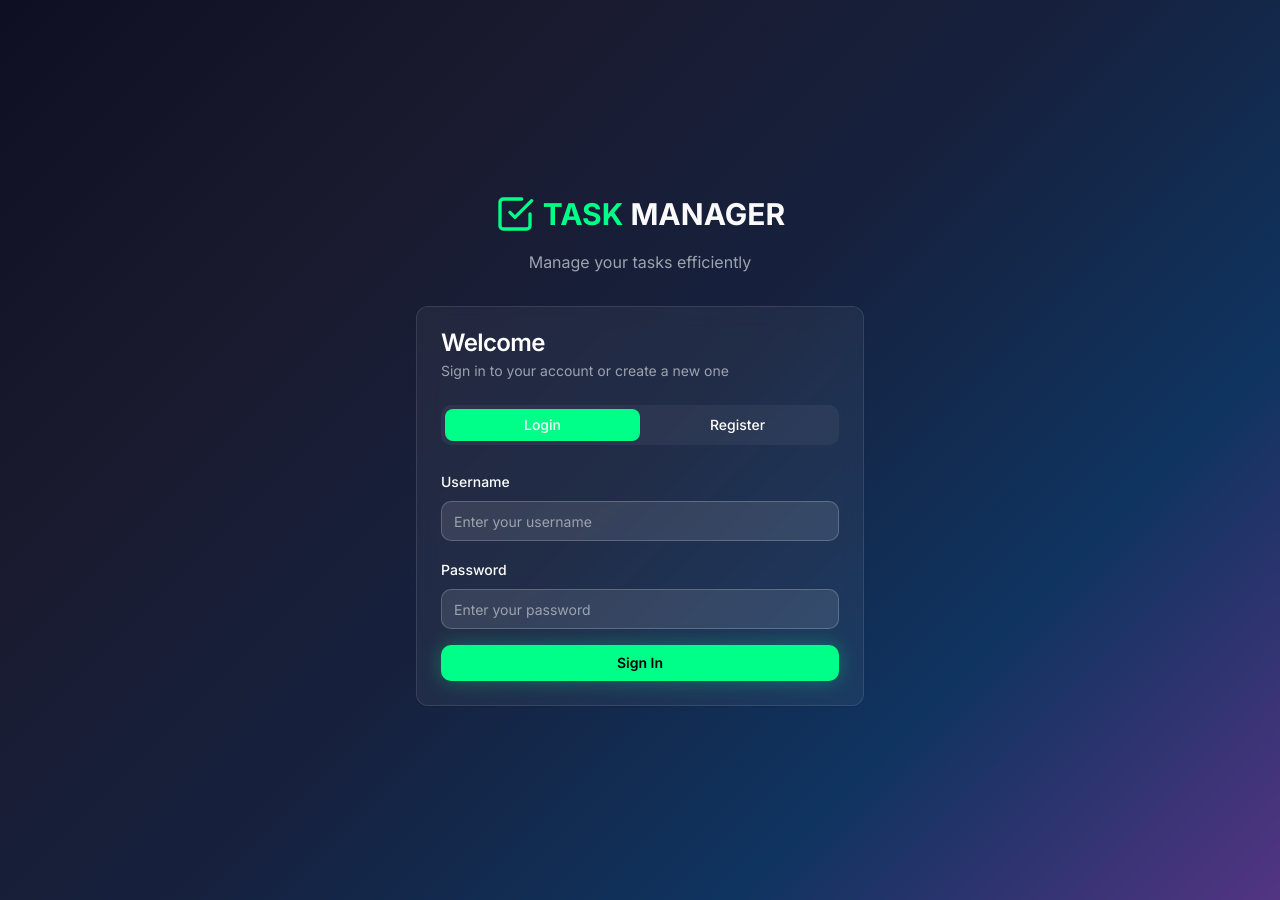
Test: LoginForm › handles login error
The width and height of the screenshot is (1280, 900).
Type "wronguser" into the field labelled "Username" at (640, 521), box x1=441 y1=501 x2=839 y2=541
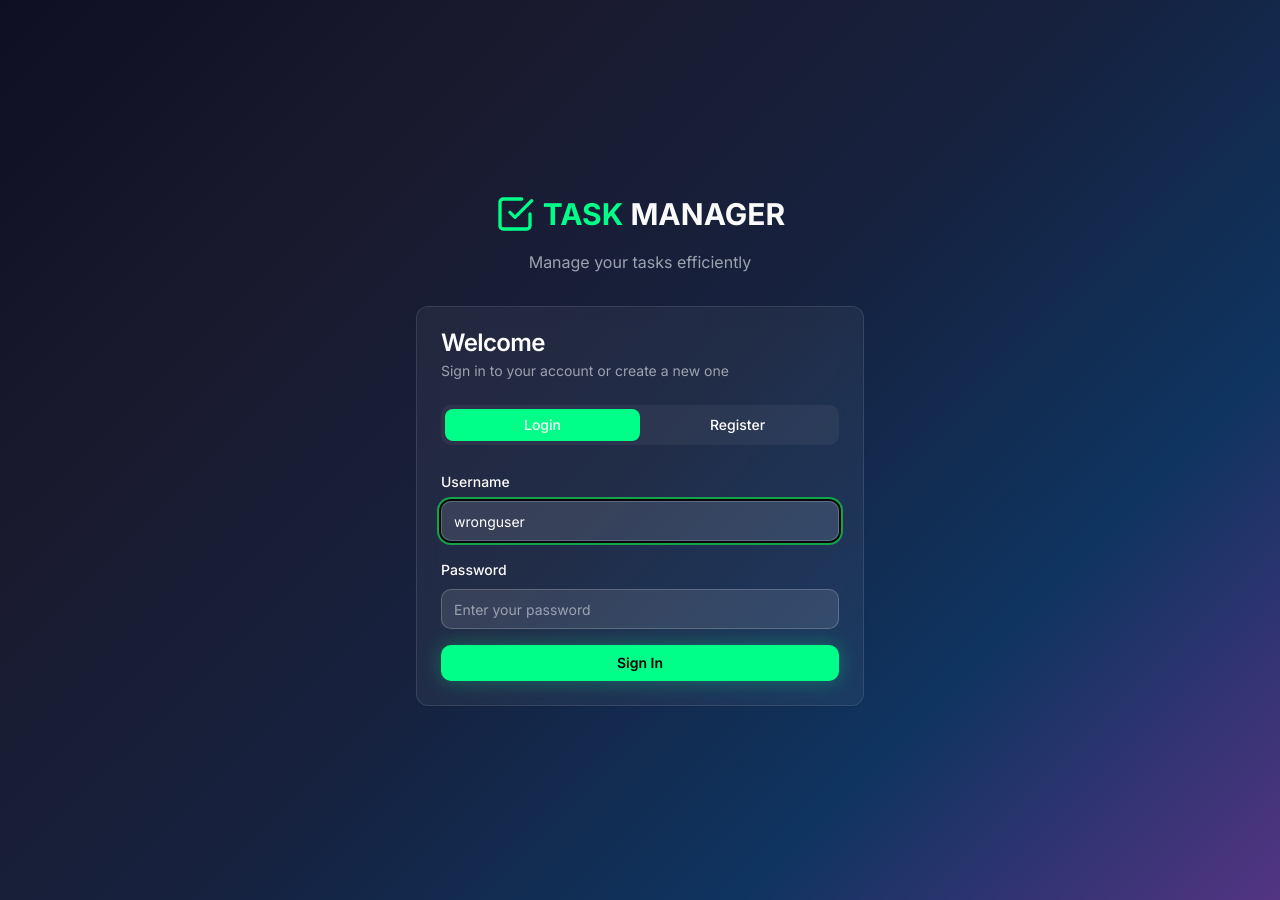
Type "wrongpass" into the password field labelled "Password" at (640, 609), box x1=441 y1=589 x2=839 y2=629
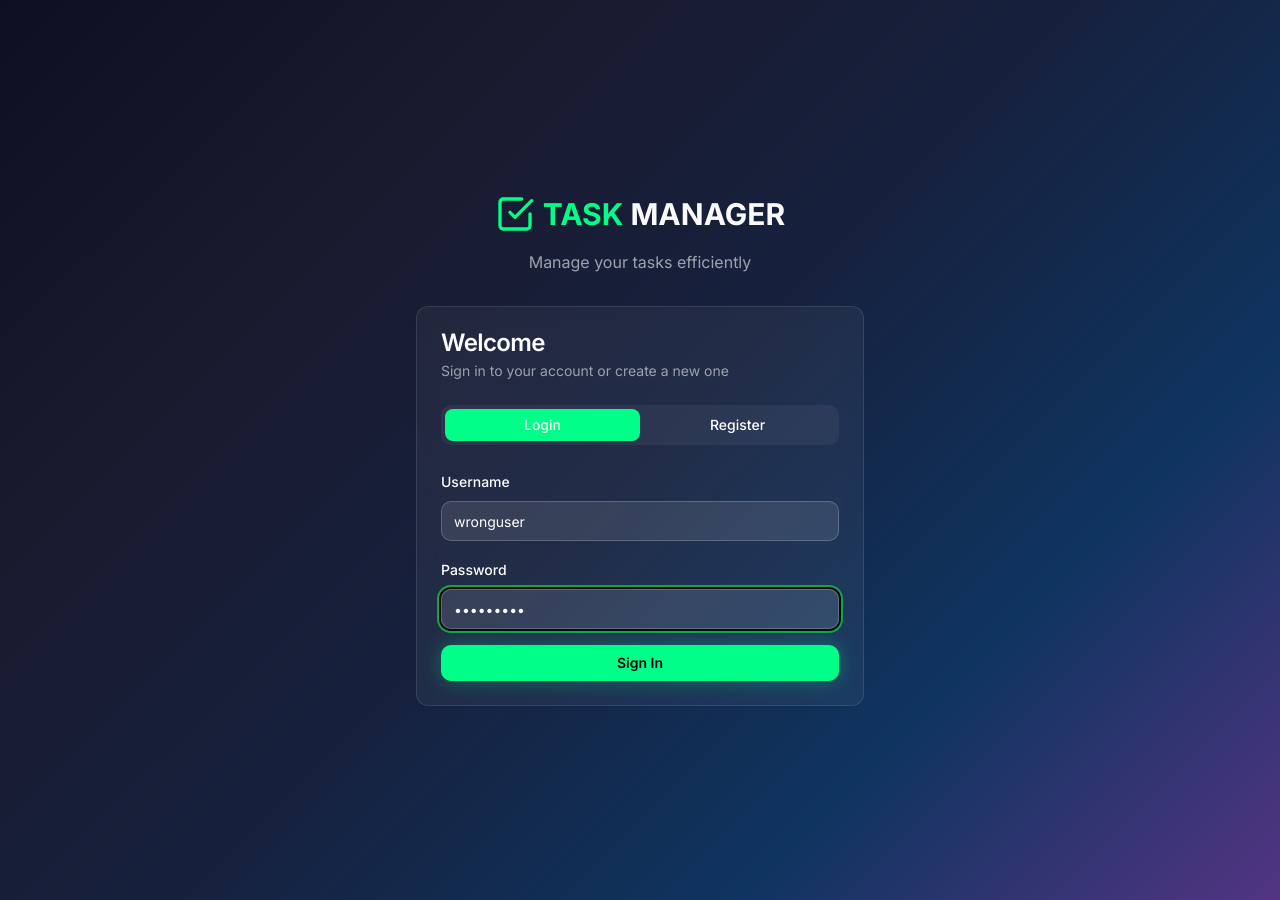
Click the button "Sign In" at (640, 663), box x1=441 y1=645 x2=839 y2=681
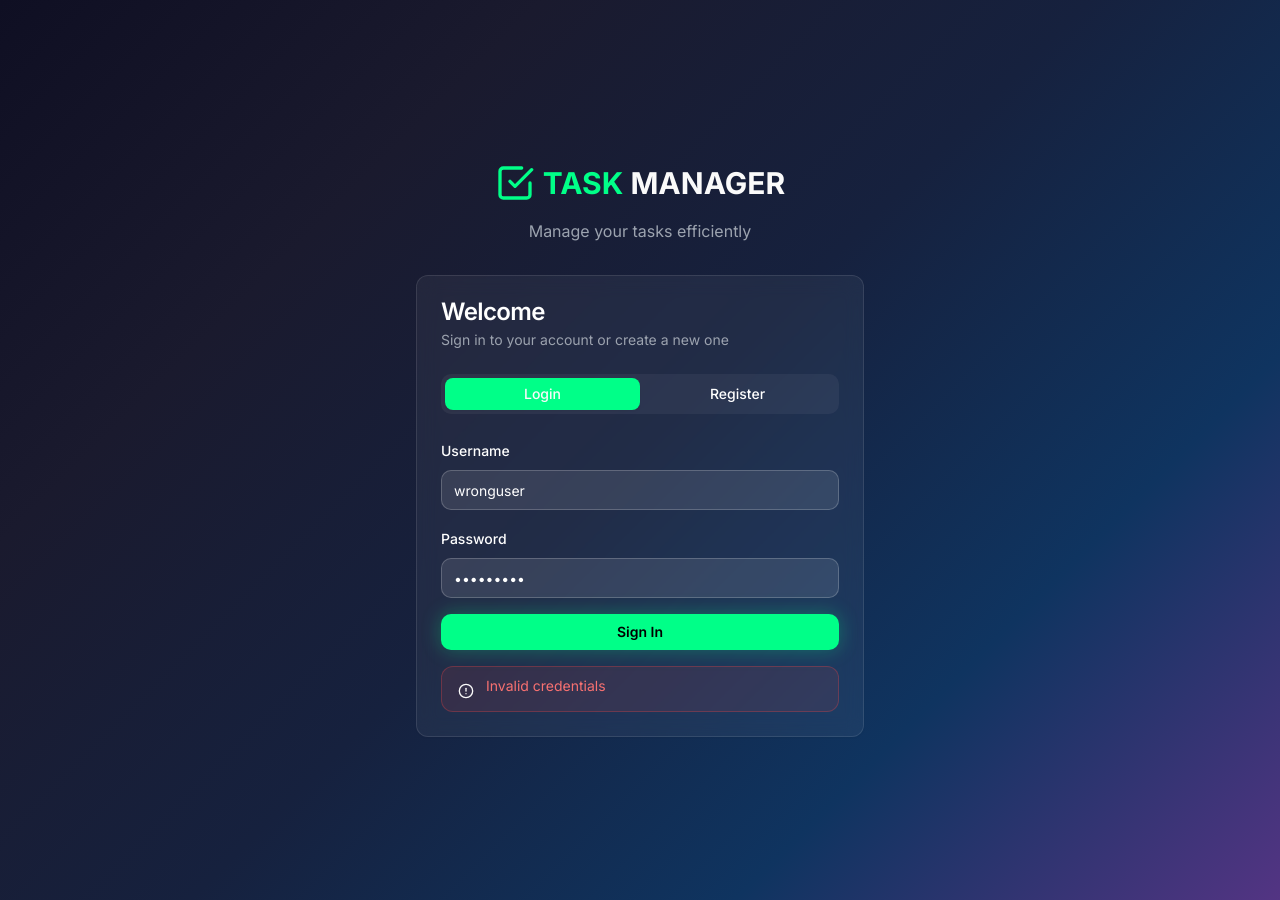
Now the text "Invalid credentials" is shown, box x1=486 y1=677 x2=606 y2=694
